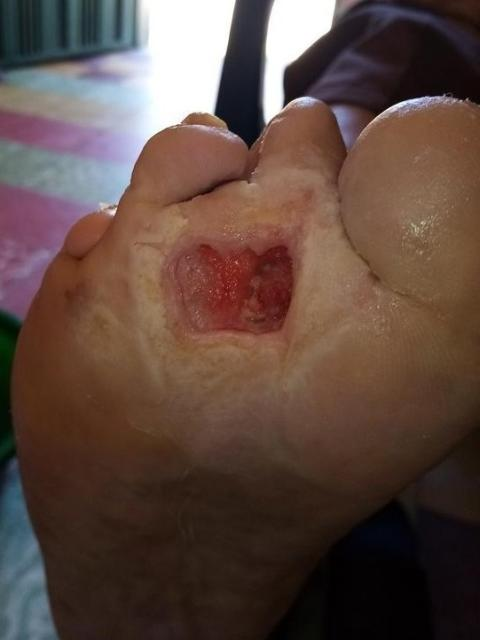wound: (171, 228, 304, 338)
